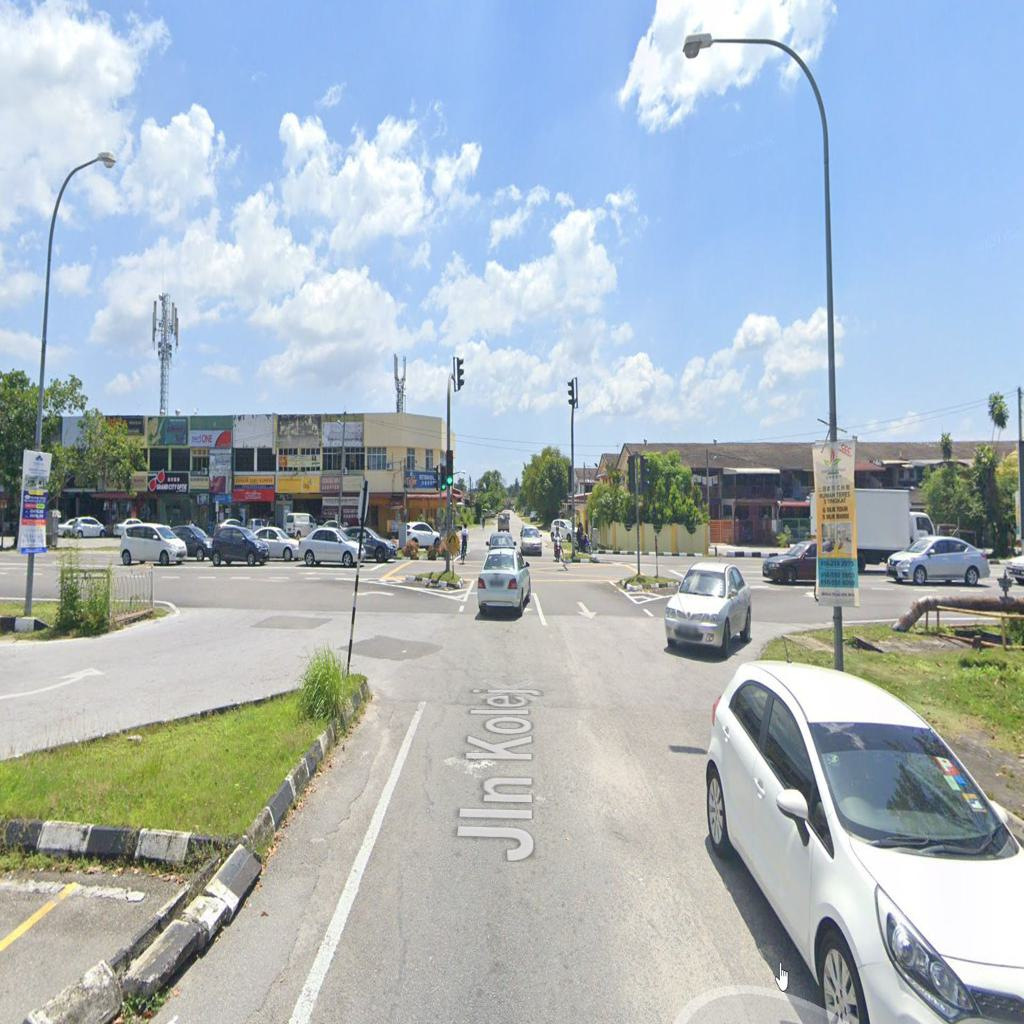Junction: (48, 518, 469, 728)
